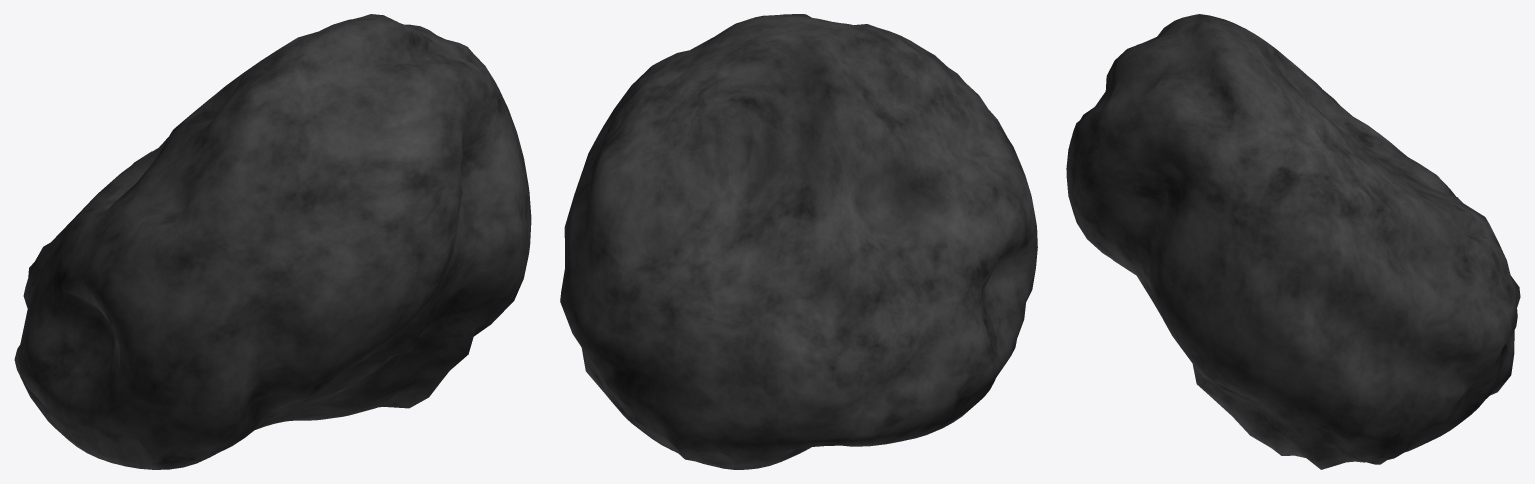
The model's file is meteor4.fbx.
3 renders of one model, left to right at view 1: azimuth 30°, elevation 25°; view 2: azimuth 150°, elevation 25°; view 3: azimuth 270°, elevation 25°, orthographic. The views are drawn at different scales.
Parts seen in each view (by area): view 1: Sphere; view 2: Sphere; view 3: Sphere.
Part boxes in pixels (bbox=[...]): Sphere: bbox=[14, 14, 531, 469]; Sphere: bbox=[560, 14, 1037, 469]; Sphere: bbox=[1066, 14, 1520, 469].
Bounding box in the file's own units: 190 × 171 × 178.
1 material, 1 textured.
